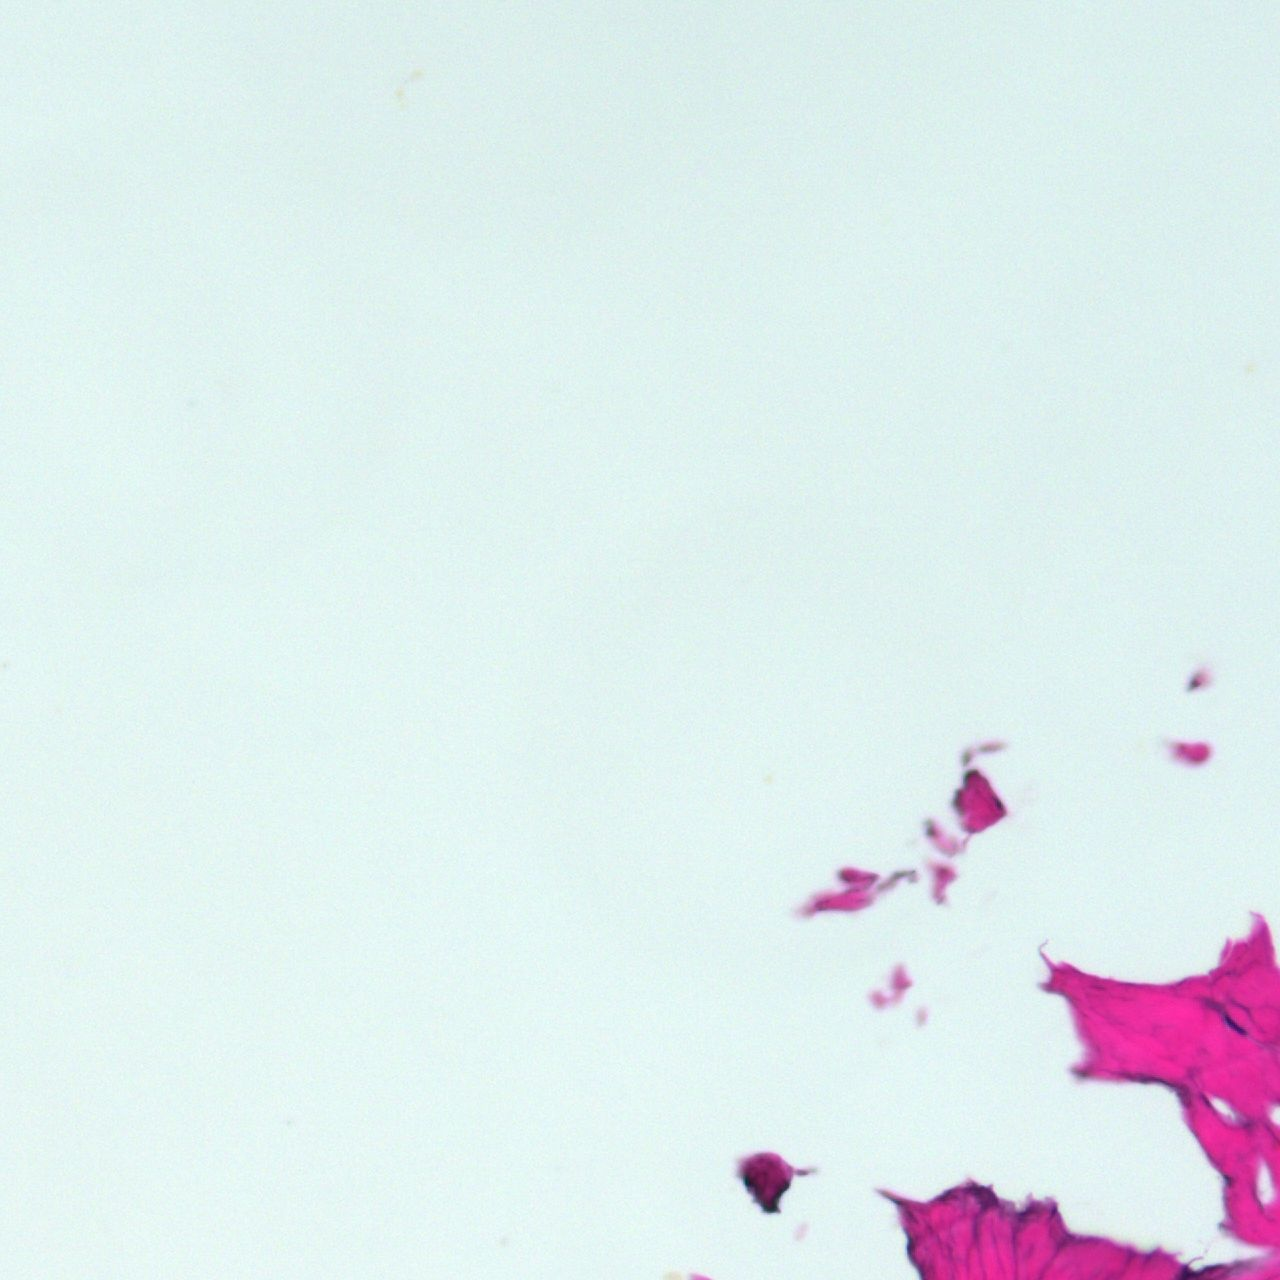nucleus-HE: (1223, 1014, 1244, 1036)
